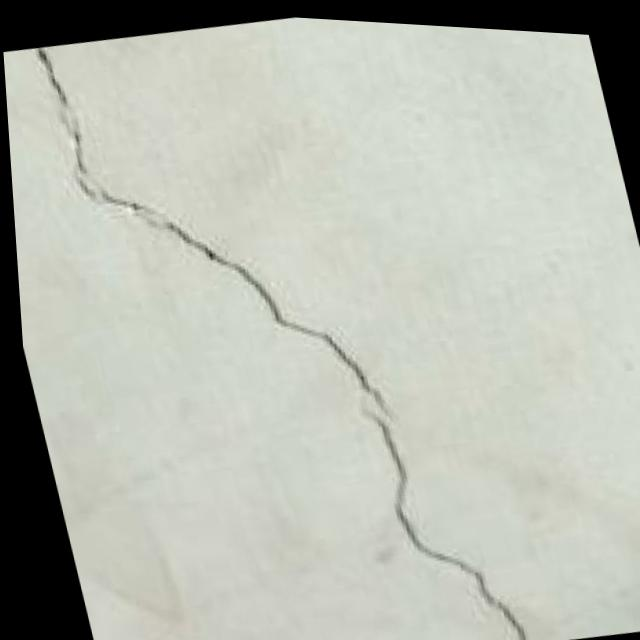Crack: (2, 0, 539, 640)
